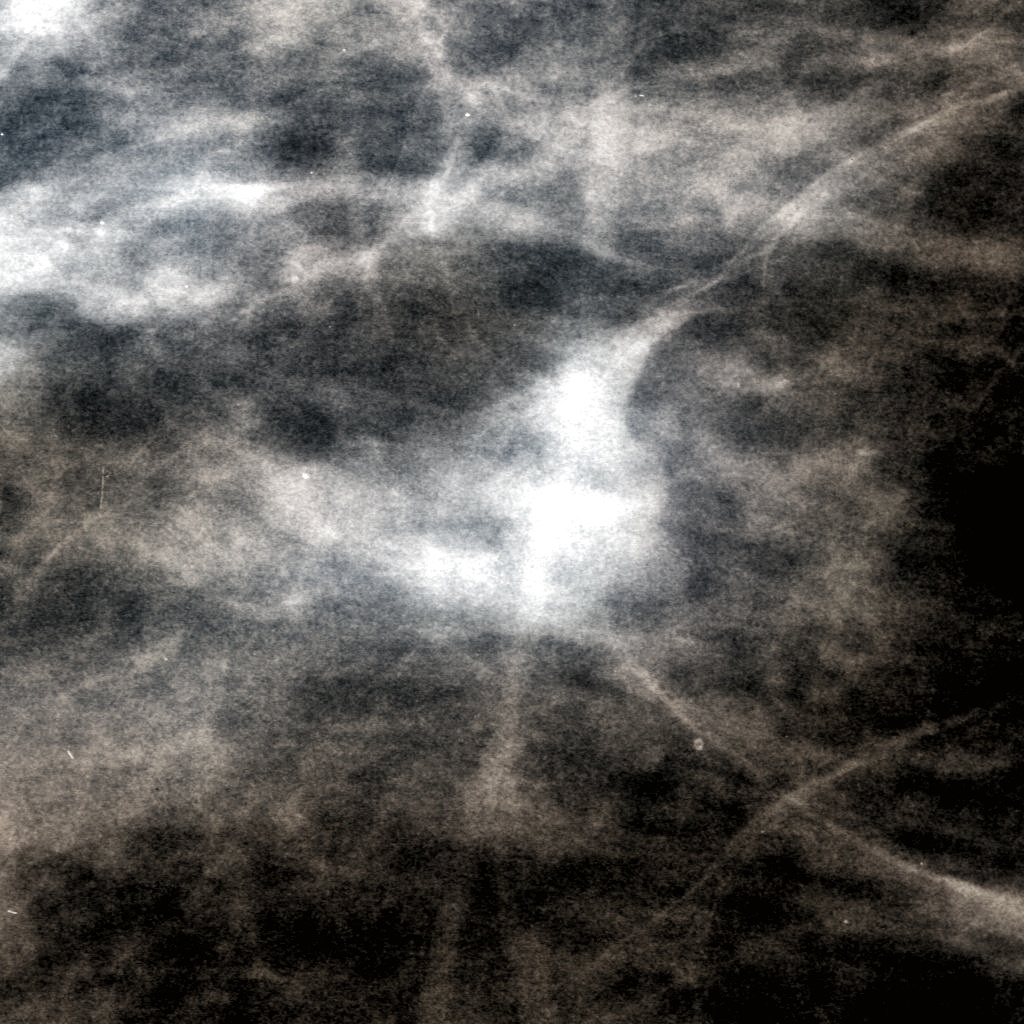tumor: (321, 317, 703, 707)
